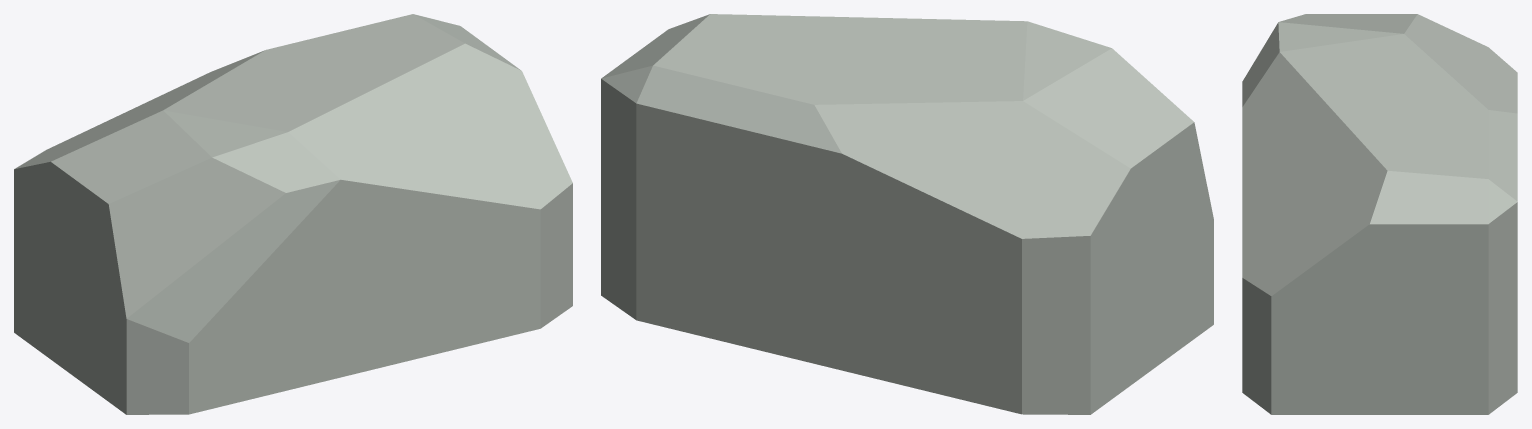
Rendered from Rock_Block_m_05.fbx.
The picture shows the model from 3 angles, left to right: view 1: azimuth 30°, elevation 25°; view 2: azimuth 150°, elevation 25°; view 3: azimuth 270°, elevation 25°; orthographic projection. The views are drawn at different scales.
Visible parts, largest first — view 1: Rock_Block_m_05; view 2: Rock_Block_m_05; view 3: Rock_Block_m_05.
Boxes of the visible parts, x1=… form: Rock_Block_m_05: x1=14, y1=14, x2=572, y2=414; Rock_Block_m_05: x1=601, y1=14, x2=1213, y2=414; Rock_Block_m_05: x1=1242, y1=14, x2=1517, y2=414.
Bounding box in the file's own units: 123 × 63.07 × 68.23.
